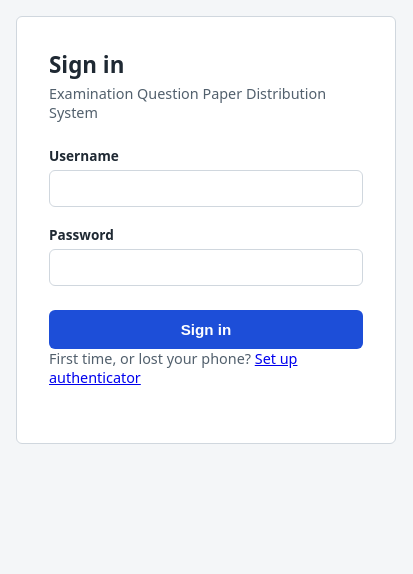
Test: LoginPage › shows enrollment guidance when the account has no authenticator yet (403)
Type "alice" into the field labelled "Username" at (206, 189), box [49, 170, 363, 207]
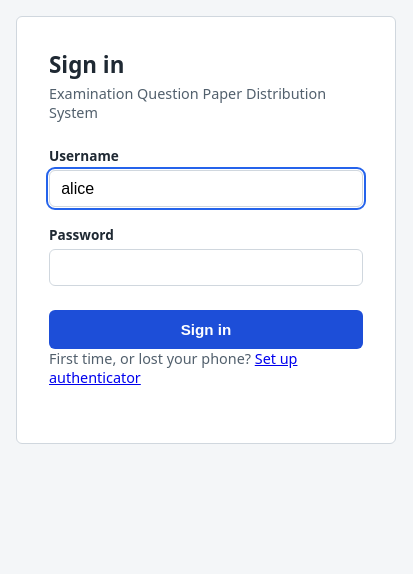
Type "Pa55word!pa55" into the password field labelled "Password" at (206, 268), box [49, 249, 363, 286]
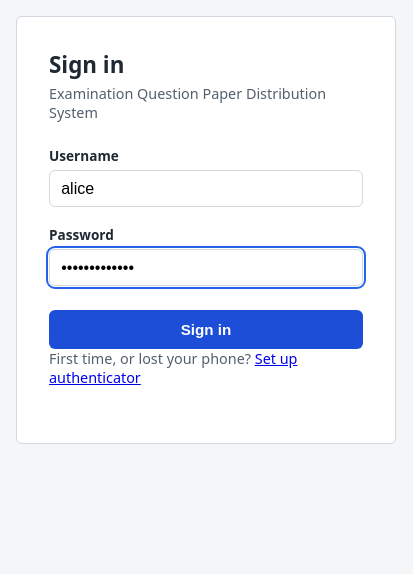
Click the button "Sign in" at (206, 330), box [49, 310, 363, 349]
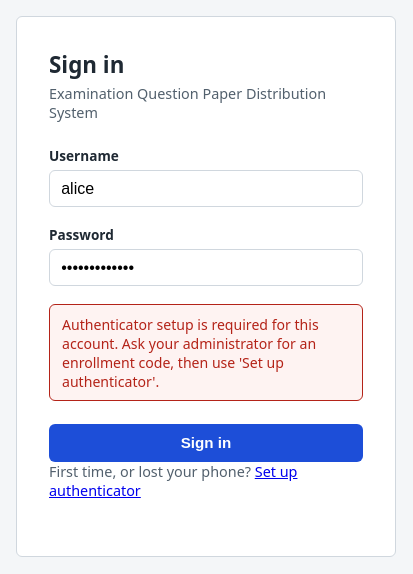
expect the message shows "Authenticator setup is required": met, box [62, 315, 319, 391]
